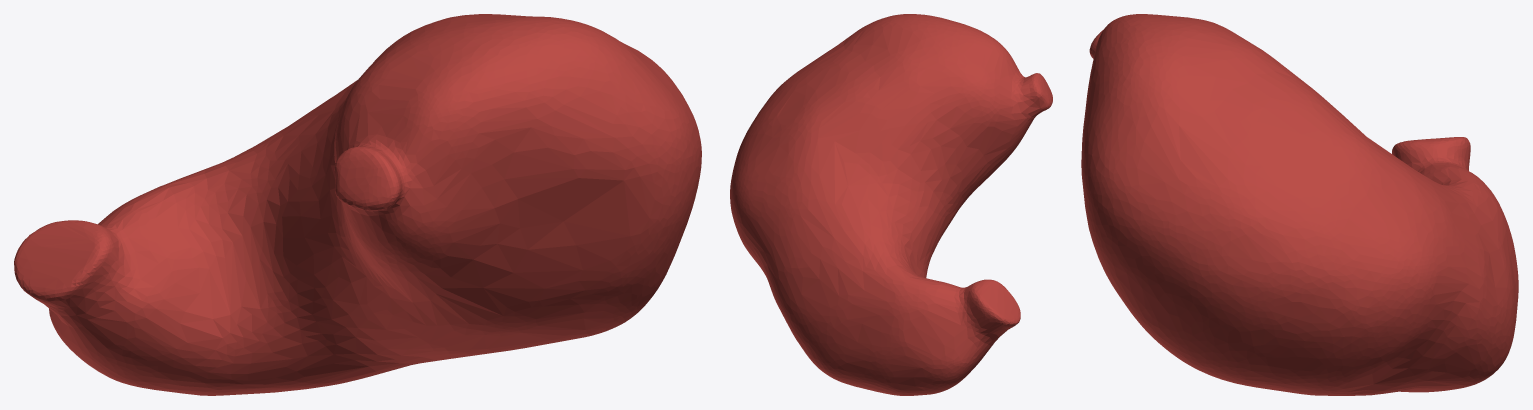
File: stomach.glb
3 views of the same model, side by side, from view 1: azimuth 30°, elevation 25°; view 2: azimuth 150°, elevation 25°; view 3: azimuth 270°, elevation 25° (orthographic). The views are drawn at different scales.
Size of the model in its own units: 142 by 115 by 120.
